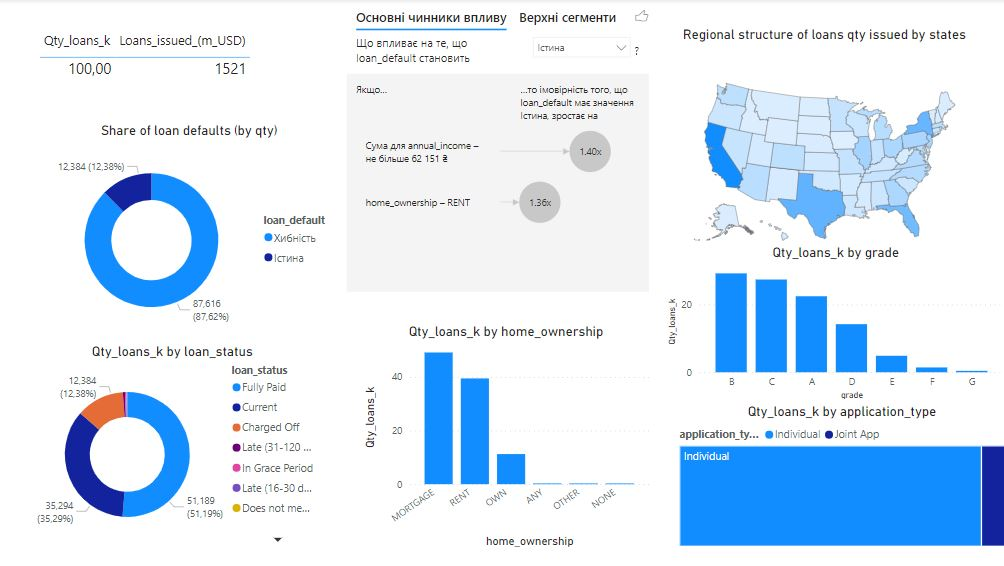

The page's visual inventory and layout, read from the dashboard file:
{"tool":"powerbi","page":{"name":"Сторінка 2","canvas":[1280,720],"ordinal":0},"visuals":[{"type":"tableEx","fields":{"Values":["bq-results-20241030-084836-[number redacted].Qty_loans_k","bq-results-20241030-084836-[number redacted].Loans_issued_amnt"]},"box":[52.5,35,348.1,95.4],"z":0},{"type":"shapeMap","title":"Regional structure of loans qty issued by states","fields":{"Category":["bq-results-20241030-084836-[number redacted].addr_state"],"Value":["Sum(bq-results-20241030-084836-[number redacted].number_of_loans)"]},"box":[859.9,35,375.1,321.1],"z":1000},{"type":"donutChart","title":"Share of loan defaults (by qty)","fields":{"Y":["bq-results-20241030-084836-[number redacted].Qty_loans_k"],"Category":["bq-results-20241030-084836-[number redacted].loan_default"]},"box":[52.5,157.4,387.8,276.6],"z":2000},{"type":"clusteredColumnChart","title":"Qty_loans_k by grade","fields":{"Y":["bq-results-20241030-084836-[number redacted].Qty_loans_k"],"Category":["bq-results-20241030-084836-[number redacted].grade"]},"box":[845.6,309.9,433.9,200.3],"z":4000},{"type":"keyDriversVisual","fields":{"Target":["bq-results-20241030-084836-[number redacted].loan_default"],"ExplainBy":["Sum(bq-results-20241030-084836-[number redacted].annual_income)","bq-results-20241030-084836-[number redacted].home_ownership","bq-results-20241030-084836-[number redacted].emp_title"]},"box":[440.3,0,391,375.1],"z":5000},{"type":"clusteredColumnChart","title":"Qty_loans_k by home_ownership","fields":{"Y":["bq-results-20241030-084836-[number redacted].Qty_loans_k"],"Category":["bq-results-20241030-084836-[number redacted].home_ownership"]},"box":[460.9,410.1,370.3,286.1],"z":7000},{"type":"treemap","title":"Qty_loans_k by application_type","fields":{"Values":["bq-results-20241030-084836-[number redacted].Qty_loans_k"],"Group":["bq-results-20241030-084836-[number redacted].application_type"]},"box":[859.8,510.2,419.5,185.2],"z":7001},{"type":"donutChart","title":"Qty_loans_k by loan_status","fields":{"Y":["bq-results-20241030-084836-[number redacted].Qty_loans_k"],"Category":["bq-results-20241030-084836-[number redacted].loan_status"]},"box":[32.1,434.6,387.4,260.8],"z":7002}]}

Visuals, with their boxes in screenshot pixels (x1, y1, x2, y2), scaled from the page's 1280x720 canvas onto the 1004x566 screenshot:
tableEx - bq-results-20241030-084836-[number redacted].Qty_loans_k x bq-results-20241030-084836-[number redacted].Loans_issued_amnt: 41:28:314:103
"Regional structure of loans qty issued by states" shapeMap: 674:28:969:280
"Share of loan defaults (by qty)" donutChart: 41:124:345:341
"Qty_loans_k by grade" clusteredColumnChart: 663:244:1003:401
keyDriversVisual - bq-results-20241030-084836-[number redacted].loan_default x Sum(bq-results-20241030-084836-[number redacted].annual_income): 345:0:652:295
"Qty_loans_k by home_ownership" clusteredColumnChart: 362:322:652:547
"Qty_loans_k by application_type" treemap: 674:401:1003:547
"Qty_loans_k by loan_status" donutChart: 25:342:329:547
